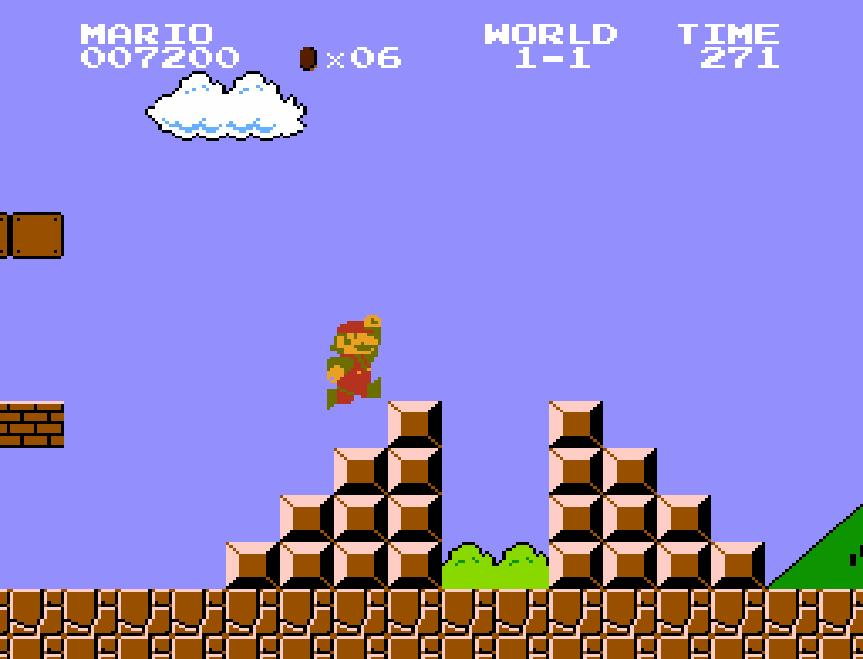big_mario: (324, 313, 382, 411)
